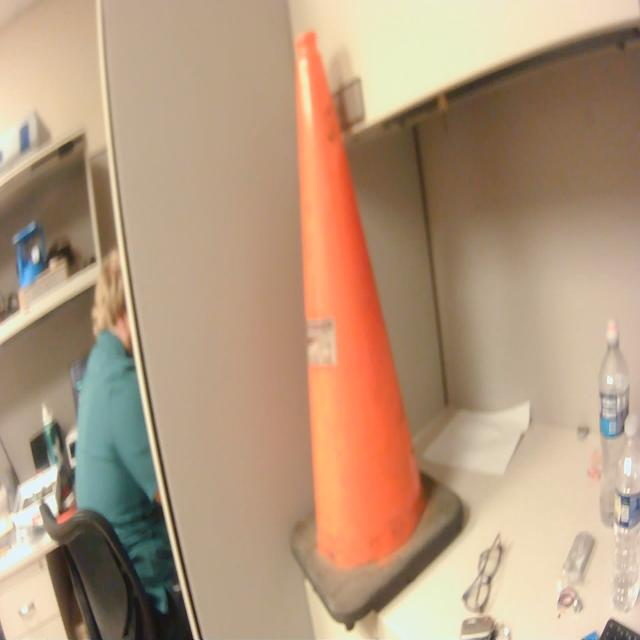traffic cone: (285, 21, 469, 634)
